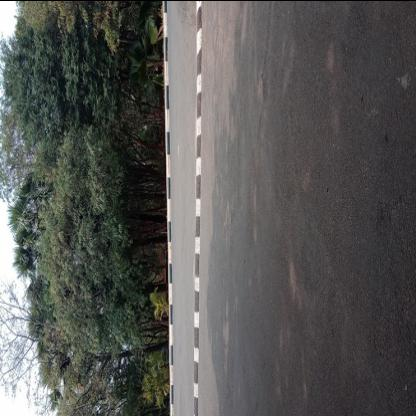speed-bumps: (185, 1, 209, 415)
